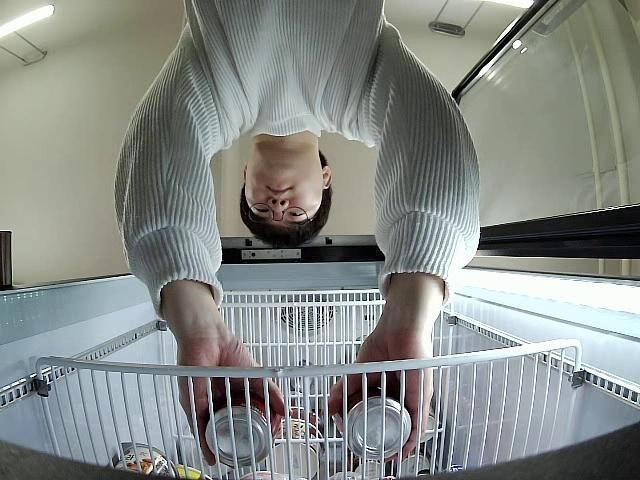11_cocaColaZero: (329, 377, 412, 462), (206, 390, 280, 466)
